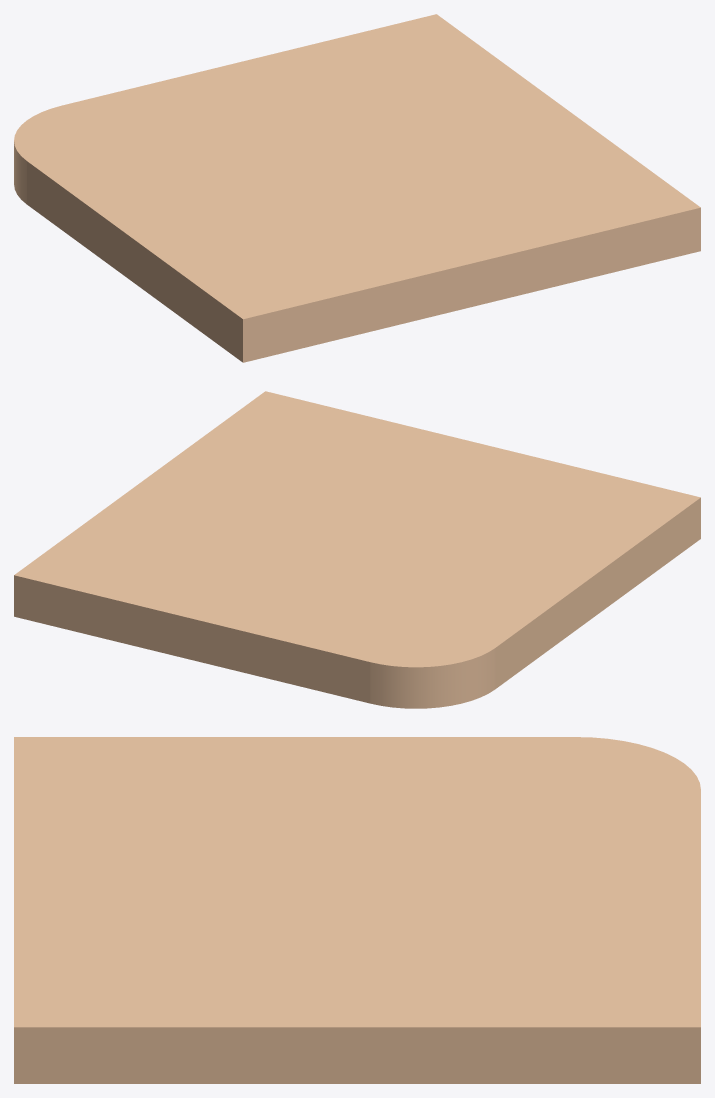
The model's file is floorCornerRound.fbx.
The picture shows the model from 3 angles, top to bottom: view 1: azimuth 30°, elevation 25°; view 2: azimuth 150°, elevation 25°; view 3: azimuth 270°, elevation 25°; orthographic projection. The views are drawn at different scales.
Visible parts, largest first — view 1: floorCornerRound; view 2: floorCornerRound; view 3: floorCornerRound.
Part boxes in pixels (<box>): floorCornerRound: <box>14,14,700,362</box>; floorCornerRound: <box>14,391,700,708</box>; floorCornerRound: <box>14,737,700,1083</box>.
Size of the model in its own units: 550 by 50 by 550.
